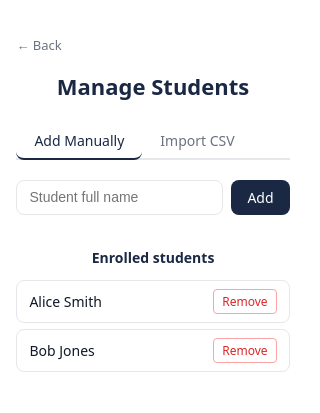
CourseStudentsView › adds a student manually and appends to list
Type "Carol White" into the field with test id "manual-name-input". click: (120, 197)
box: [16, 180, 223, 215]
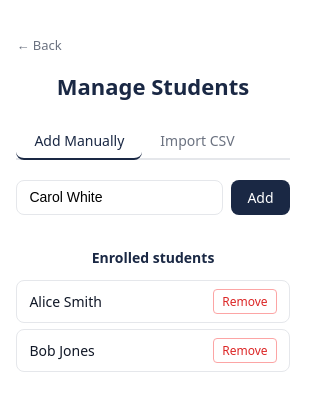
Submit the form with test id "add-student-form", box [16, 180, 290, 215]
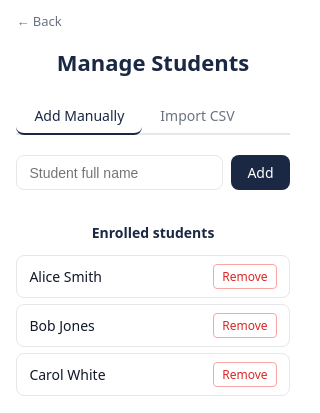
Check: the list item with test id "student-row-99" is shown, box [16, 353, 290, 396]
Check: the field with test id "manual-name-input" is empty, box [16, 155, 223, 190]
